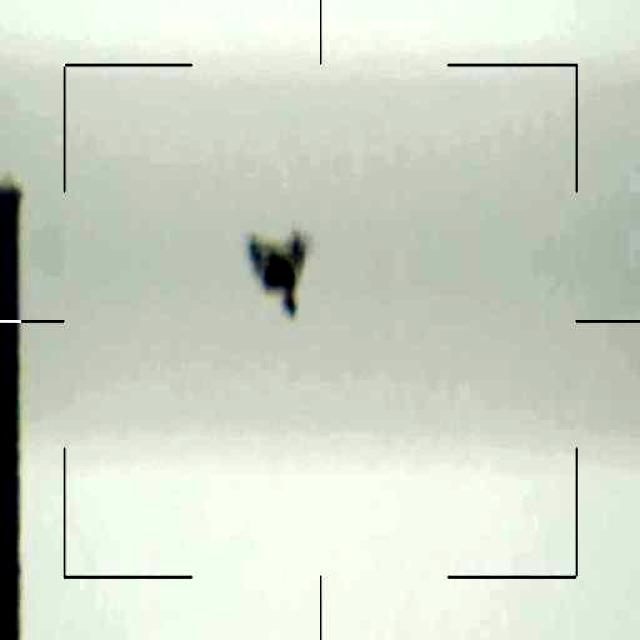bird: (235, 231, 308, 318)
